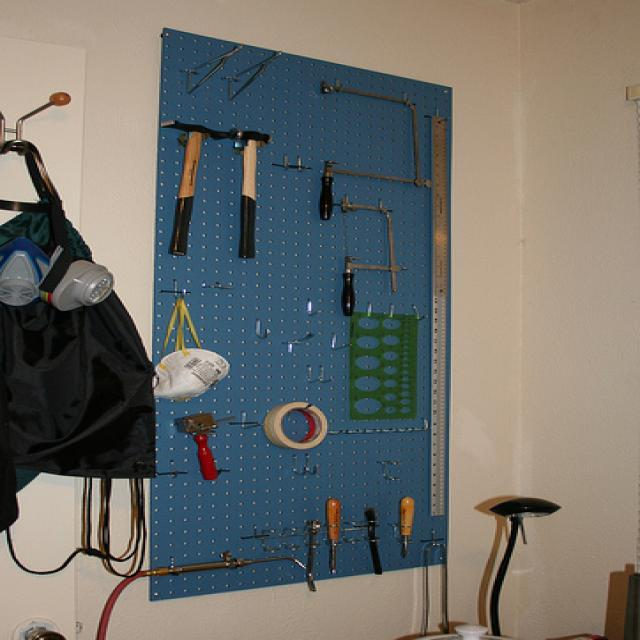hammer: (142, 115, 230, 265), (216, 125, 282, 263)
screwdriver: (322, 492, 348, 578), (393, 486, 421, 564)
